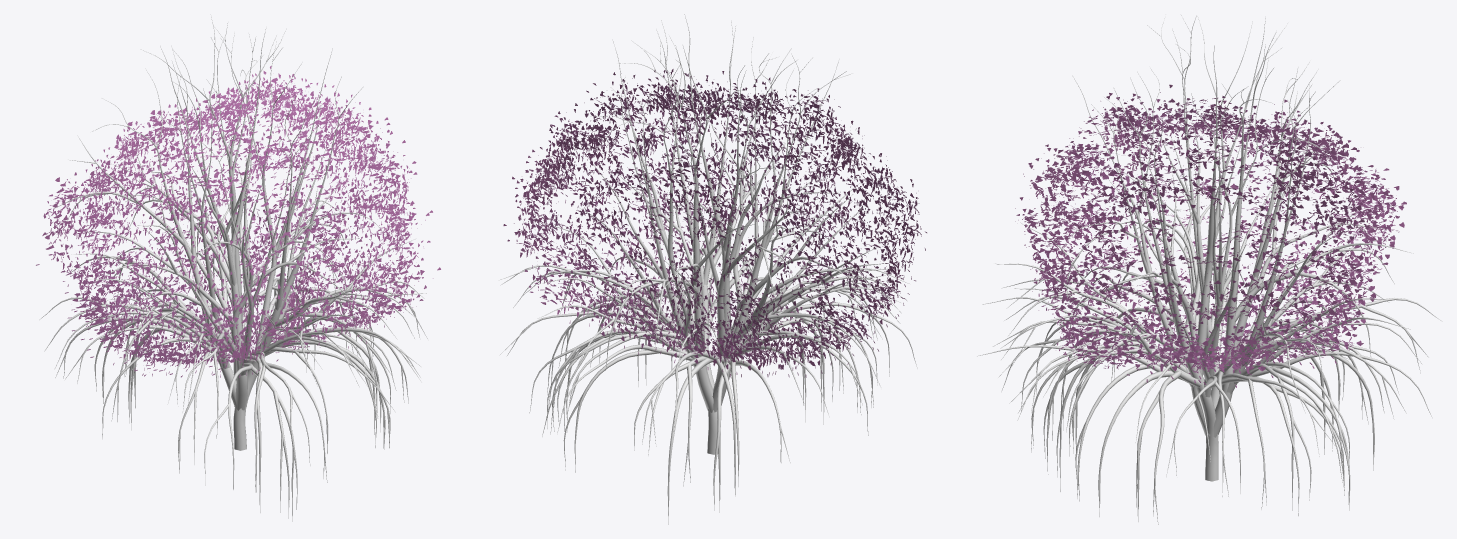
File: Tree_B.fbx
The picture shows the model from 3 angles, left to right: view 1: azimuth 30°, elevation 25°; view 2: azimuth 150°, elevation 25°; view 3: azimuth 270°, elevation 25°; orthographic projection. The views are drawn at different scales.
Parts seen in each view (by area): view 1: Bush_B_LOD0.004, tree.002; view 2: Bush_B_LOD0.004, tree.002; view 3: tree.002, Bush_B_LOD0.004.
Part boxes in pixels (x1=…): Bush_B_LOD0.004: x1=36, y1=66, x2=440, y2=377; tree.002: x1=39, y1=14, x2=427, y2=521; Bush_B_LOD0.004: x1=503, y1=69, x2=926, y2=377; tree.002: x1=498, y1=14, x2=917, y2=524; tree.002: x1=977, y1=15, x2=1442, y2=524; Bush_B_LOD0.004: x1=1015, y1=84, x2=1406, y2=387.
Size of the model in its own units: 5.89 by 6.02 by 6.74.
